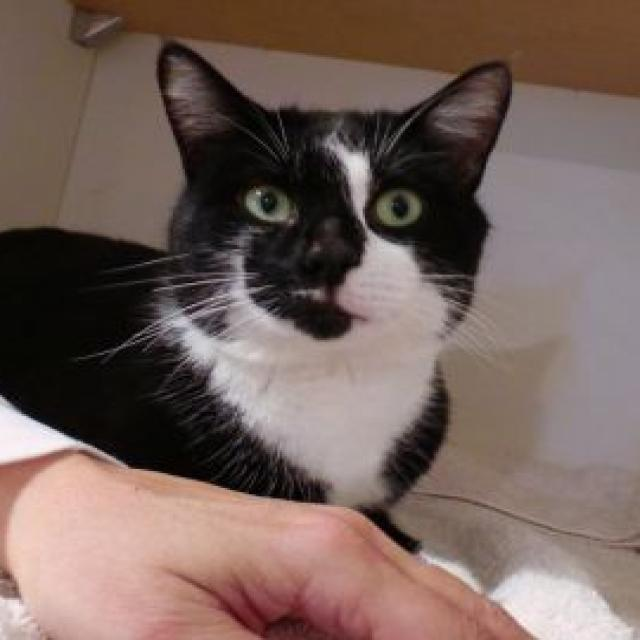Tuxedo: (0, 36, 517, 526)
